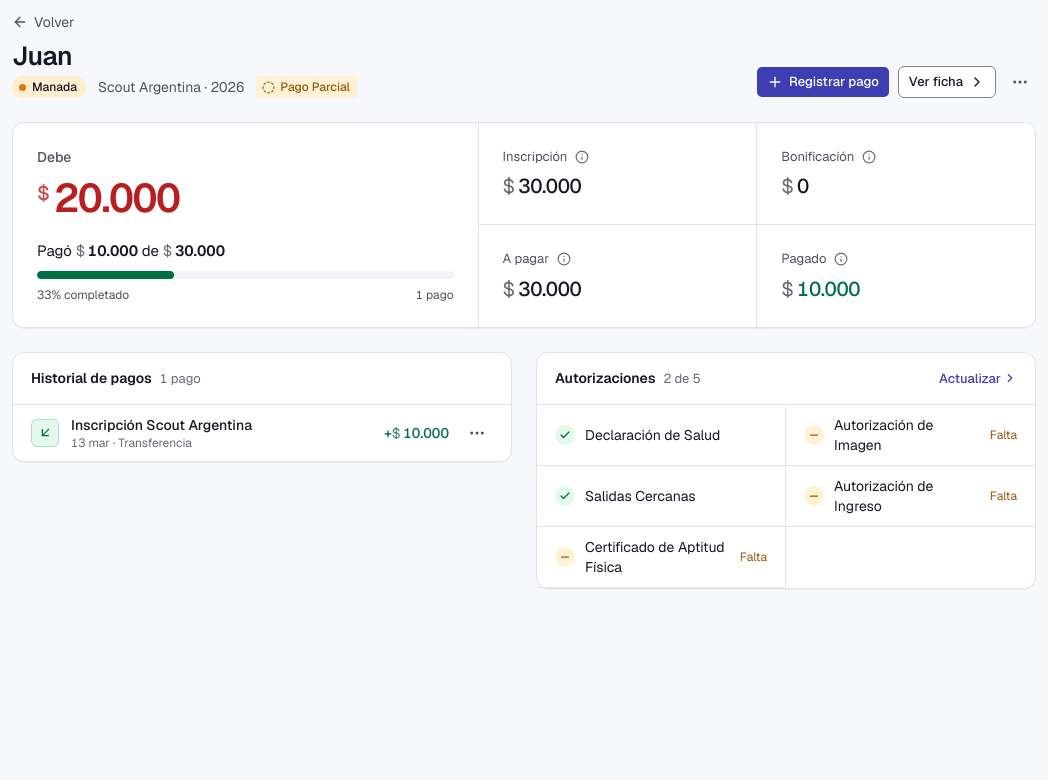
<InscripcionDetailView> › el ⋯ del encabezado agrupa editar, bonificar y eliminar
Click the button named "Más acciones de la inscripción": (1020, 82) [1004,66,1036,98]
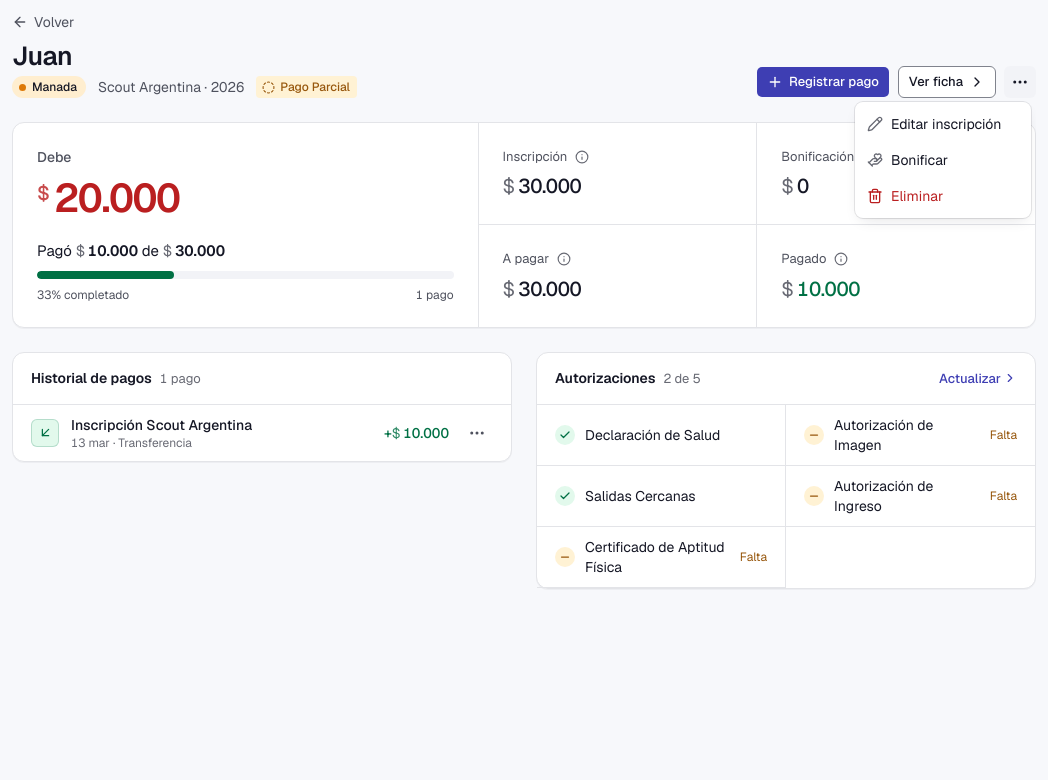
Expected: the menu item "Editar inscripción" is shown, [867,115,1001,133]
Expected: the menu item "Bonificar" is shown, [867,151,948,169]
Expected: the menu item "Eliminar" is shown, [867,187,943,205]
